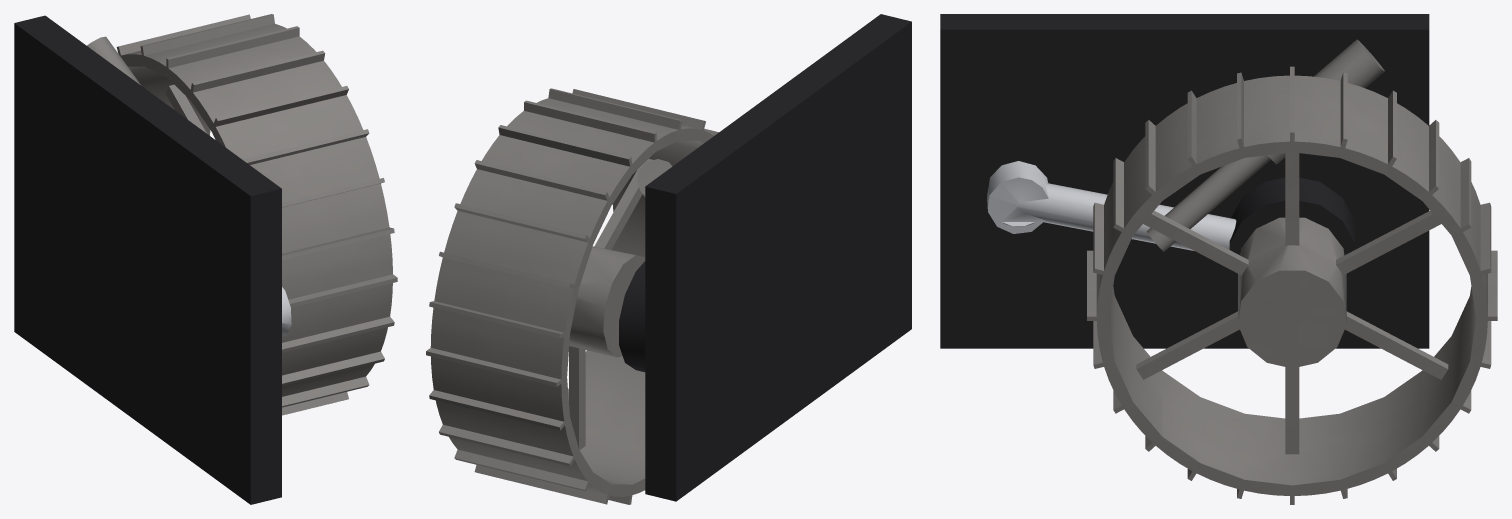
File: rover04_wheel_s.glb
3 renders of one model, left to right at view 1: azimuth 30°, elevation 25°; view 2: azimuth 150°, elevation 25°; view 3: azimuth 270°, elevation 25°, orthographic. The views are drawn at different scales.
Parts seen in each view (by area): view 1: mount_plate, wheel, damper; view 2: mount_plate, wheel, hub_motor, damper; view 3: mount_plate, wheel, swing_arm, damper, hub_motor.
Boxes of the visible parts, <box> form: mount_plate: <box>14,15,281,504</box>; wheel: <box>116,14,397,415</box>; damper: <box>87,36,141,85</box>; mount_plate: <box>645,14,911,501</box>; wheel: <box>426,88,718,504</box>; hub_motor: <box>619,261,645,372</box>; damper: <box>636,159,672,197</box>; mount_plate: <box>940,14,1429,348</box>; wheel: <box>1087,66,1497,504</box>; swing_arm: <box>987,161,1236,250</box>; damper: <box>1146,39,1384,251</box>; hub_motor: <box>1229,177,1354,282</box>.
Bounding box in the file's own units: 0.266 × 0.43 × 0.57.
Materials: 3 (2 with a texture image).
